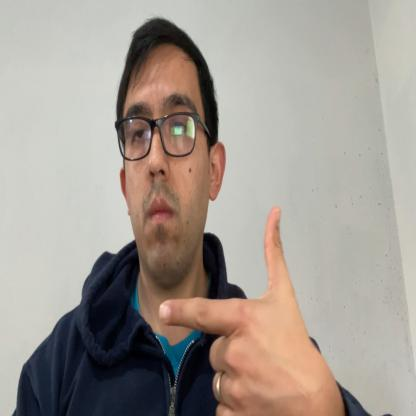G: (160, 204, 327, 416)
